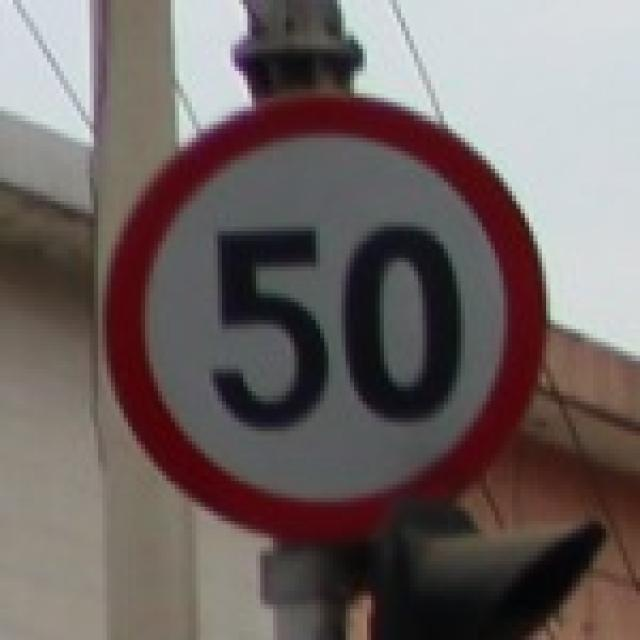Speed Limit -50-: (203, 219, 463, 437)
